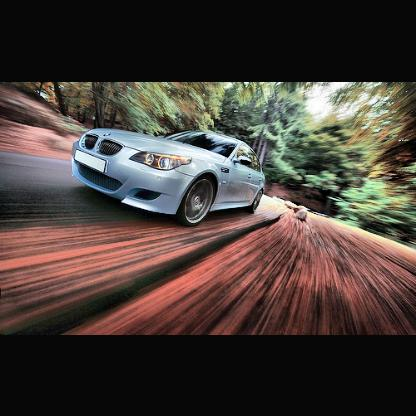BMW M5 Sedan 2010: (69, 127, 269, 226)
